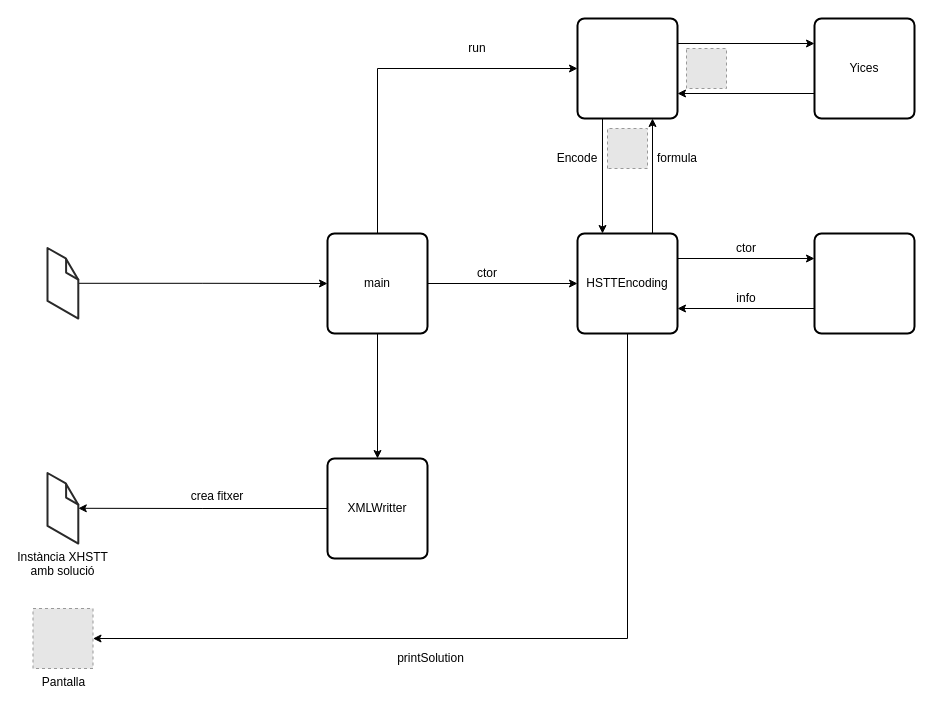
This 933x706 diagram has some shape labels left out. Grey dashed boxes stand in for pictures. Here are the shapes that lost their labels. From the top down, the centre of each, then its label:
(x=627, y=68): API SMT
(x=62, y=283): Instància XHSTT
(x=864, y=283): Parser
